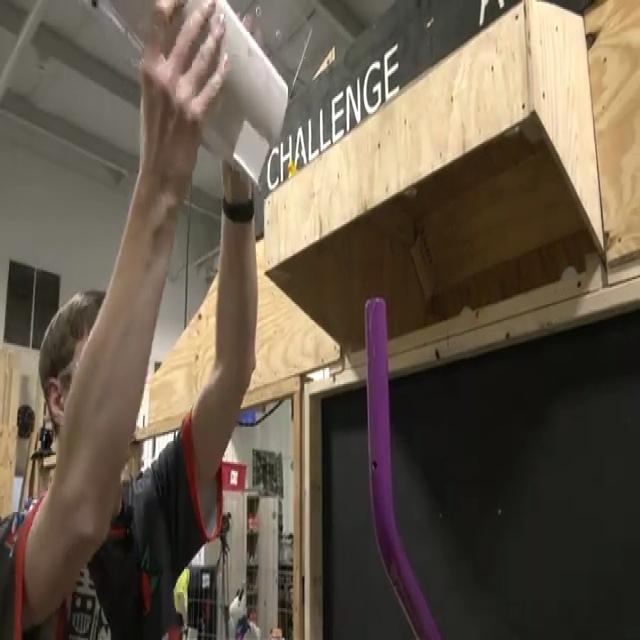Coral: (160, 0, 289, 187)
